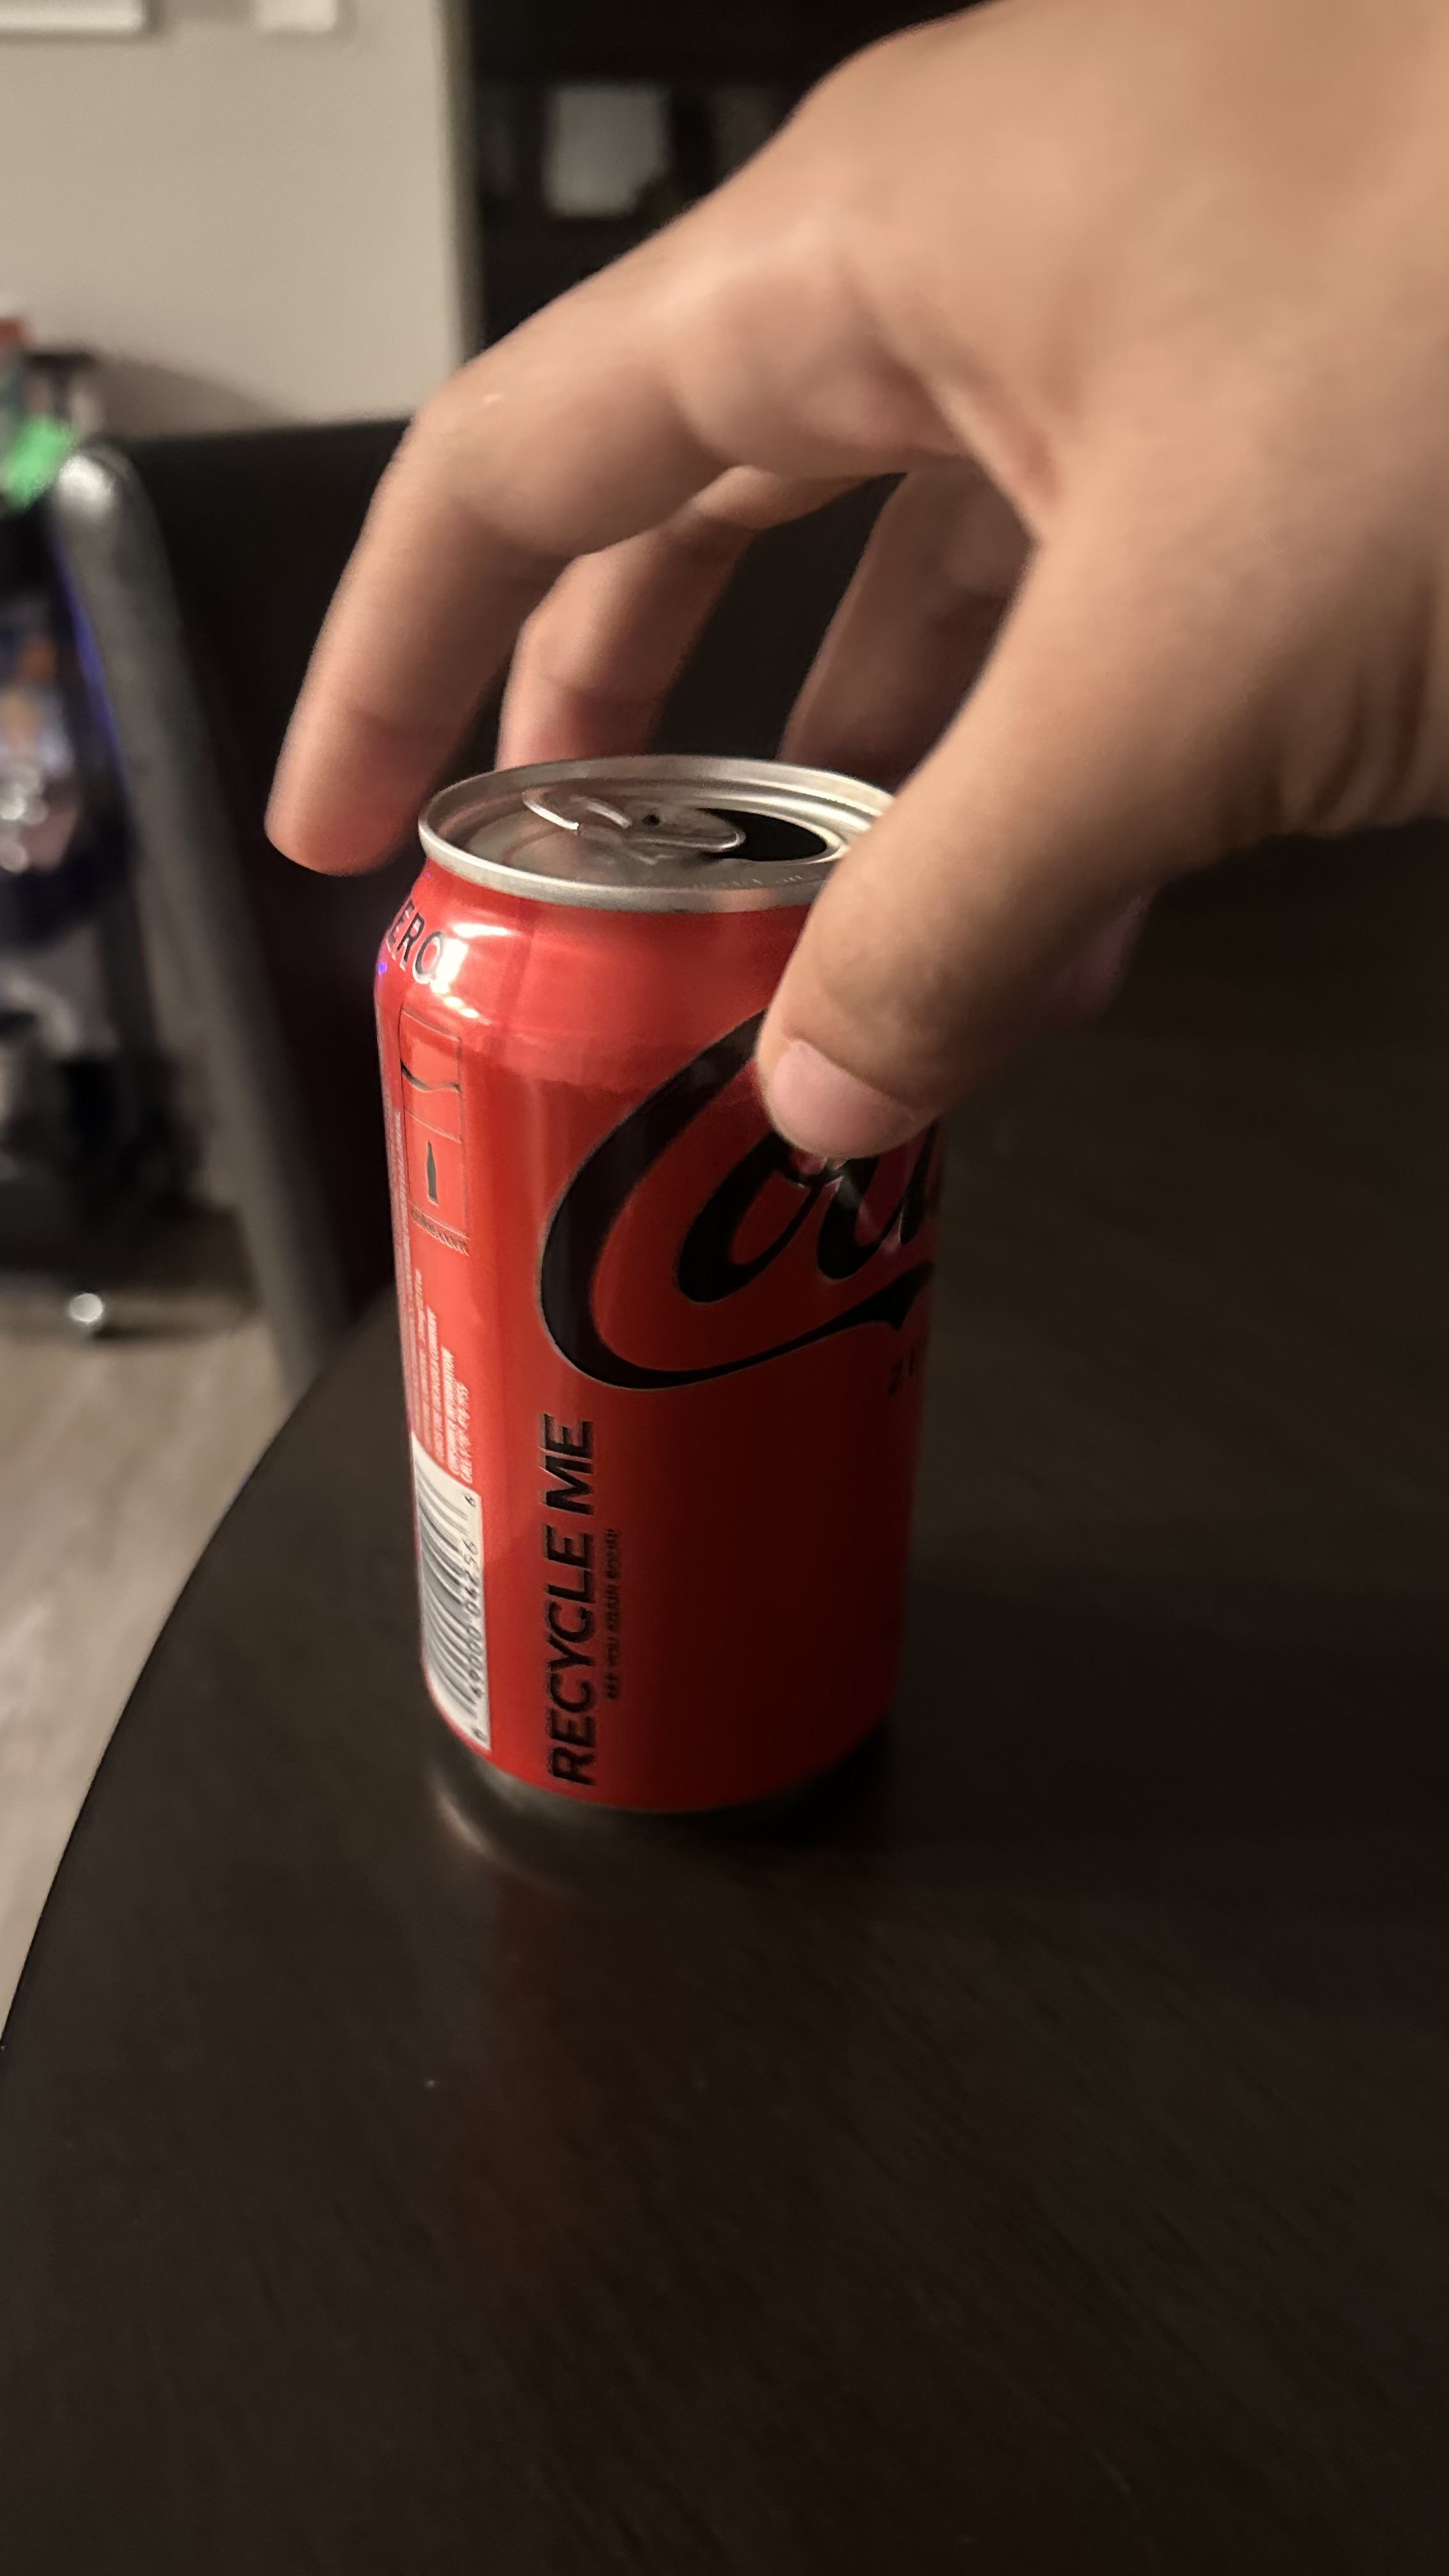Coke Zero: (349, 777, 991, 1856)
